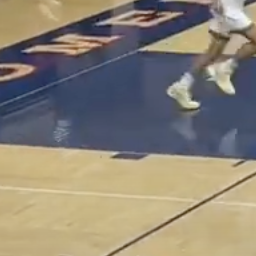block: (109, 150, 148, 161)
